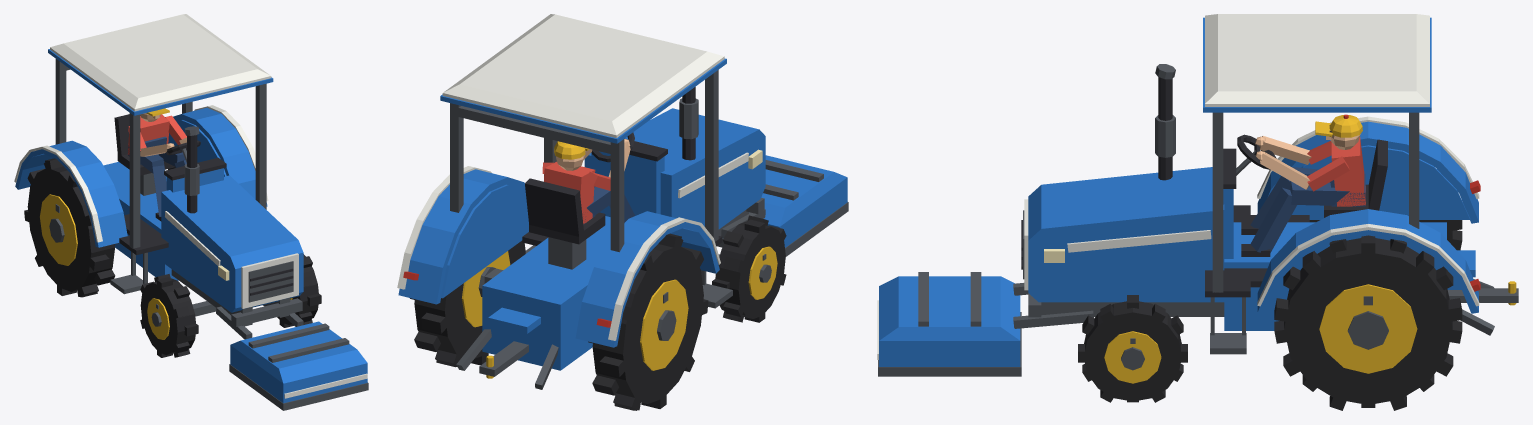
The model's file is tractor.glb.
3 views of the same model, side by side, from view 1: azimuth 30°, elevation 25°; view 2: azimuth 150°, elevation 25°; view 3: azimuth 270°, elevation 25° (orthographic). The views are drawn at different scales.
Parts seen in each view (by area): view 1: canopy, hood, deck_shell, tyre_BR, fender_R, fender_L, tyre_FR, transmission, rim_BR, post_F_R, post_F_L, tread_BR (+28 smaller); view 2: canopy, transmission, hood, tyre_BR, fender_R, fender_L, fender_wall_L, deck_shell, tyre_FR, rim_BR, seat_back, tyre_BL (+30 smaller); view 3: hood, canopy, tyre_BL, deck_shell, rim_BL, tyre_FL, fender_L, fender_wall_R, tread_BL, fender_R, transmission, post_F_L (+27 smaller).
Part boxes in pixels (<box>): canopy: <box>50,14,271,111</box>; hood: <box>161,175,303,312</box>; deck_shell: <box>230,321,367,403</box>; tyre_BR: <box>27,166,114,291</box>; fender_R: <box>15,140,127,247</box>; fender_L: <box>173,108,267,206</box>; tyre_FR: <box>140,278,195,355</box>; transmission: <box>103,161,178,280</box>; rim_BR: <box>40,194,77,265</box>; post_F_R: <box>129,113,140,248</box>; post_F_L: <box>255,83,266,209</box>; tread_BR: <box>24,158,118,297</box>; canopy: <box>442,14,724,137</box>; transmission: <box>482,216,610,370</box>; hood: <box>584,108,765,229</box>; tyre_BR: <box>592,244,703,403</box>; fender_R: <box>575,211,719,347</box>; fender_L: <box>398,169,525,304</box>; fender_wall_L: <box>440,184,528,298</box>; deck_shell: <box>761,155,847,247</box>; tyre_FR: <box>715,221,785,318</box>; rim_BR: <box>640,279,688,370</box>; seat_back: <box>525,178,583,236</box>; tyre_BL: <box>414,240,525,358</box>; hood: <box>1028,167,1224,302</box>; canopy: <box>1205,14,1429,106</box>; tyre_BL: <box>1284,238,1452,404</box>; deck_shell: <box>879,276,1020,366</box>; rim_BL: <box>1319,284,1417,373</box>; tyre_FL: <box>1083,301,1181,401</box>; fender_L: <box>1257,209,1478,313</box>; fender_wall_R: <box>1292,145,1470,219</box>; tread_BL: <box>1274,235,1462,410</box>; fender_R: <box>1257,121,1478,223</box>; transmission: <box>1224,222,1446,330</box>; post_F_L: <box>1212,112,1223,292</box>.
Bounding box in the file's own units: 2.01 × 2.6 × 4.91.
